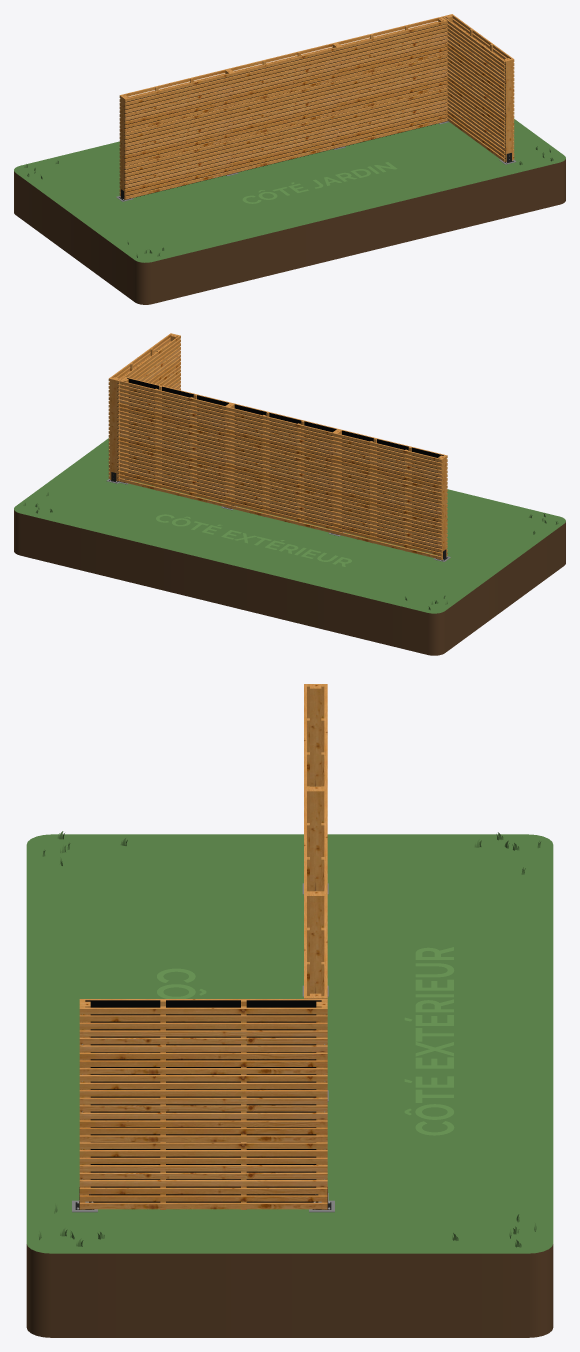
File: glb-180.glb
3 views of the same model, one above another, from view 1: azimuth 30°, elevation 25°; view 2: azimuth 150°, elevation 25°; view 3: azimuth 270°, elevation 25° (orthographic). The views are drawn at different scales.
Parts seen in each view (by area): view 1: Scène_Sol, Panneau_7_Sol, Panneau_8_Sol, Panneau_1_Sol, Panneau_4_Sol, Panneau_5_Sol, Panneau_2_Sol, Panneau_9_Sol, Panneau_3_Sol, Panneau_6_Sol, Panneau_12_Sol, Panneau_11_Sol (+16 smaller); view 2: Scène_Sol, Panneaux_2ème_Face_9_Sol, Panneaux_2ème_Face_6_Sol, Panneaux_2ème_Face_3_Sol, Panneaux_2ème_Face_8_Sol, Panneaux_2ème_Face_7_Sol, Panneaux_2ème_Face_1_Sol, Panneaux_2ème_Face_4_Sol, Panneaux_2ème_Face_5_Sol, Panneaux_2ème_Face_2_Sol, Panneau_12_Sol, Occultant_8_Sol (+11 smaller); view 3: Scène_Sol, Panneaux_2ème_Face_12_Sol, Panneaux_2ème_Face_11_Sol, Panneaux_2ème_Face_10_Sol, Occultant_12_Sol, Côté Extérieur Label_Sol, Occultant_11_Sol, Occultant_10_Sol, Poteau_2_Sol, Poteau_1_Sol, Poteau_3_Sol.
Boxes of the visible parts, x1=… form: Scène_Sol: x1=14, y1=118, x2=565, y2=304; Panneau_7_Sol: x1=124, y1=72, x2=232, y2=132; Panneau_8_Sol: x1=231, y1=46, x2=340, y2=105; Panneau_1_Sol: x1=124, y1=140, x2=232, y2=199; Panneau_4_Sol: x1=124, y1=106, x2=232, y2=165; Panneau_5_Sol: x1=232, y1=80, x2=340, y2=139; Panneau_2_Sol: x1=232, y1=114, x2=340, y2=173; Panneau_9_Sol: x1=339, y1=20, x2=447, y2=79; Panneau_3_Sol: x1=339, y1=88, x2=447, y2=147; Panneau_6_Sol: x1=339, y1=54, x2=447, y2=113; Panneau_12_Sol: x1=442, y1=16, x2=506, y2=94; Panneau_11_Sol: x1=446, y1=53, x2=506, y2=128; Scène_Sol: x1=14, y1=437, x2=565, y2=655; Panneaux_2ème_Face_9_Sol: x1=334, y1=432, x2=443, y2=492; Panneaux_2ème_Face_6_Sol: x1=334, y1=467, x2=443, y2=526; Panneaux_2ème_Face_3_Sol: x1=334, y1=500, x2=443, y2=560; Panneaux_2ème_Face_8_Sol: x1=227, y1=406, x2=335, y2=466; Panneaux_2ème_Face_7_Sol: x1=119, y1=380, x2=227, y2=440; Panneaux_2ème_Face_1_Sol: x1=119, y1=448, x2=227, y2=507; Panneaux_2ème_Face_4_Sol: x1=119, y1=414, x2=227, y2=473; Panneaux_2ème_Face_5_Sol: x1=227, y1=440, x2=334, y2=500; Panneaux_2ème_Face_2_Sol: x1=227, y1=474, x2=334, y2=533; Panneau_12_Sol: x1=116, y1=335, x2=180, y2=414; Occultant_8_Sol: x1=234, y1=404, x2=336, y2=458; Scène_Sol: x1=26, y1=831, x2=553, y2=1337; Panneaux_2ème_Face_12_Sol: x1=79, y1=1006, x2=327, y2=1074; Panneaux_2ème_Face_11_Sol: x1=79, y1=1075, x2=327, y2=1142; Panneaux_2ème_Face_10_Sol: x1=79, y1=1142, x2=327, y2=1209; Occultant_12_Sol: x1=85, y1=1000, x2=321, y2=1067; Côté Extérieur Label_Sol: x1=404, y1=947, x2=454, y2=1135; Occultant_11_Sol: x1=90, y1=1067, x2=316, y2=1135; Occultant_10_Sol: x1=90, y1=1142, x2=316, y2=1202; Poteau_2_Sol: x1=310, y1=786, x2=321, y2=891; Poteau_1_Sol: x1=310, y1=684, x2=321, y2=786; Poteau_3_Sol: x1=310, y1=891, x2=321, y2=993.
Bounding box in the file's own units: 8 × 2.55 × 4.25.
Materials: 8 (1 with a texture image).
